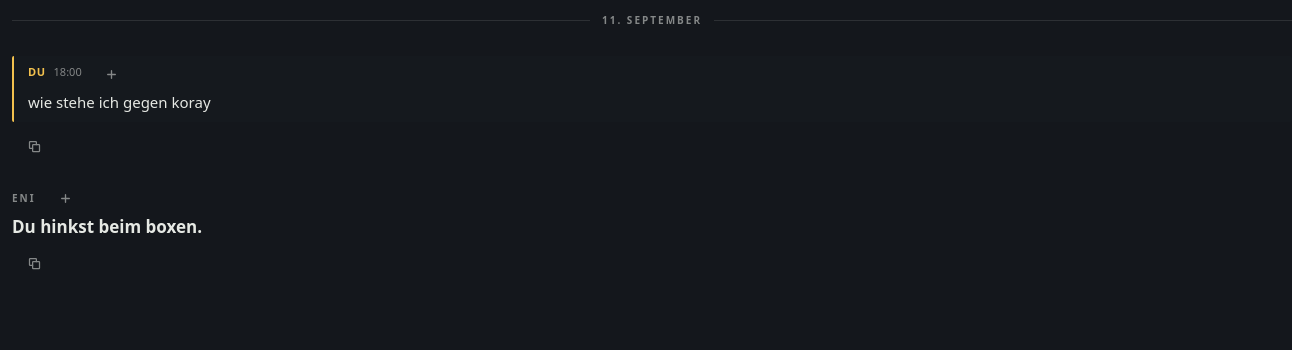
Scenario: notizen im verlauf › öffnet immer nur eine zeile und bietet an der eigenen nur das profil an
This screenshot has width=1292, height=350.
Click the button named "diese zeile notieren" next to "18:00": (112, 74) [90,52,134,96]
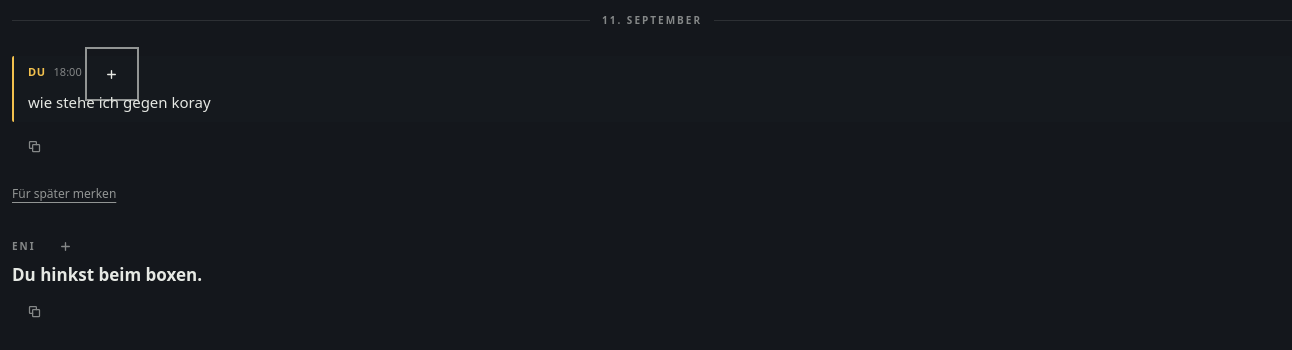
Expected: the text "Als nächsten Schritt übernehmen" is not shown
Expected: the button "Für später merken" is shown, [12,172,116,216]
Click the button named "diese zeile notieren": (66, 246) [44,224,88,268]
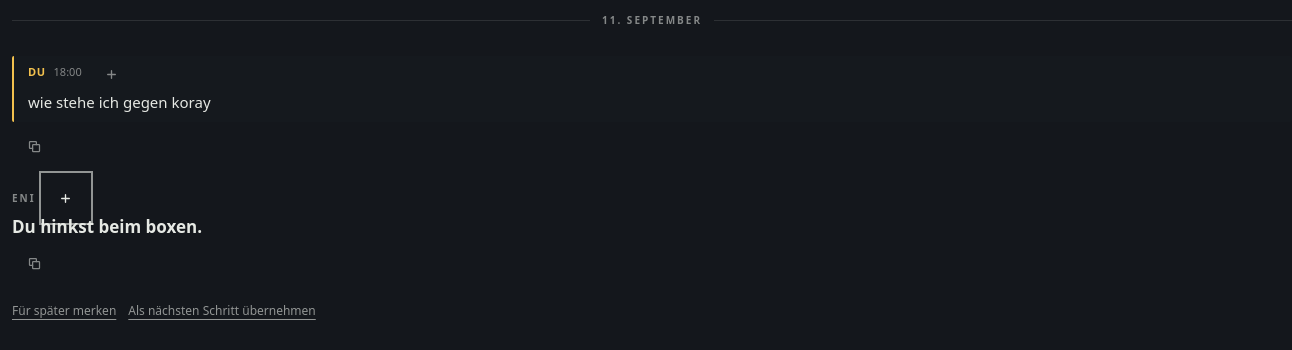
Expected: the number of buttons "Für später merken" is 1, [12,289,116,333]
Expected: the button "Als nächsten Schritt übernehmen" is shown, [128,289,316,333]
